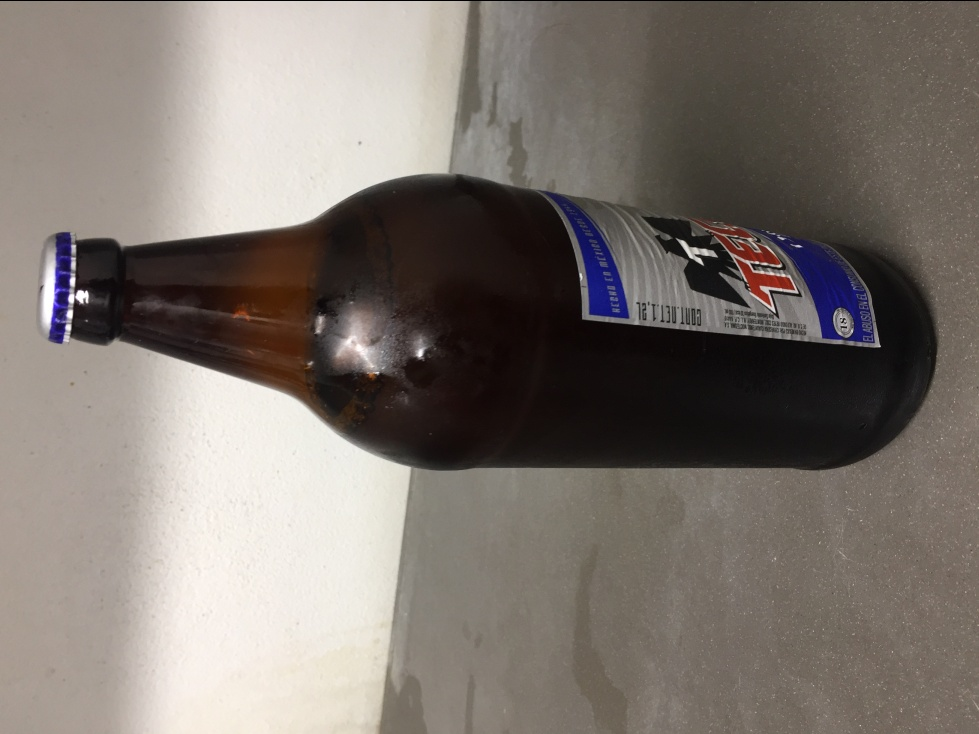tecateC: (39, 168, 924, 482)
